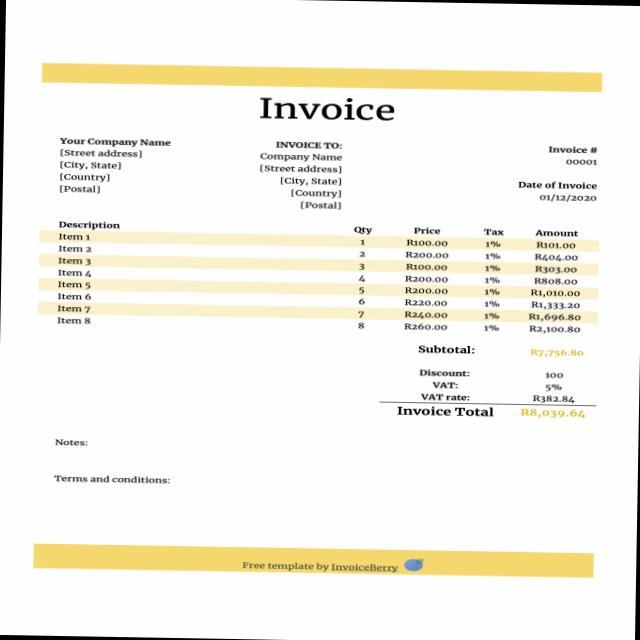customer_address: (258, 164, 348, 200), (56, 148, 143, 182)
customer_name: (254, 152, 344, 164)
invoice_date: (535, 193, 600, 203)
invoice_number: (557, 154, 600, 170)
invoice_subtotal: (526, 346, 587, 362)
invoice_total: (521, 407, 588, 422)
item_description: (51, 230, 106, 330)
item_quantity: (344, 236, 378, 332)
item_total_price: (526, 238, 584, 336)
item_unit_price: (398, 238, 458, 334)
supplier_name: (56, 134, 176, 148)
tax_amount: (531, 390, 582, 404)
tax_rate: (539, 382, 575, 392)
